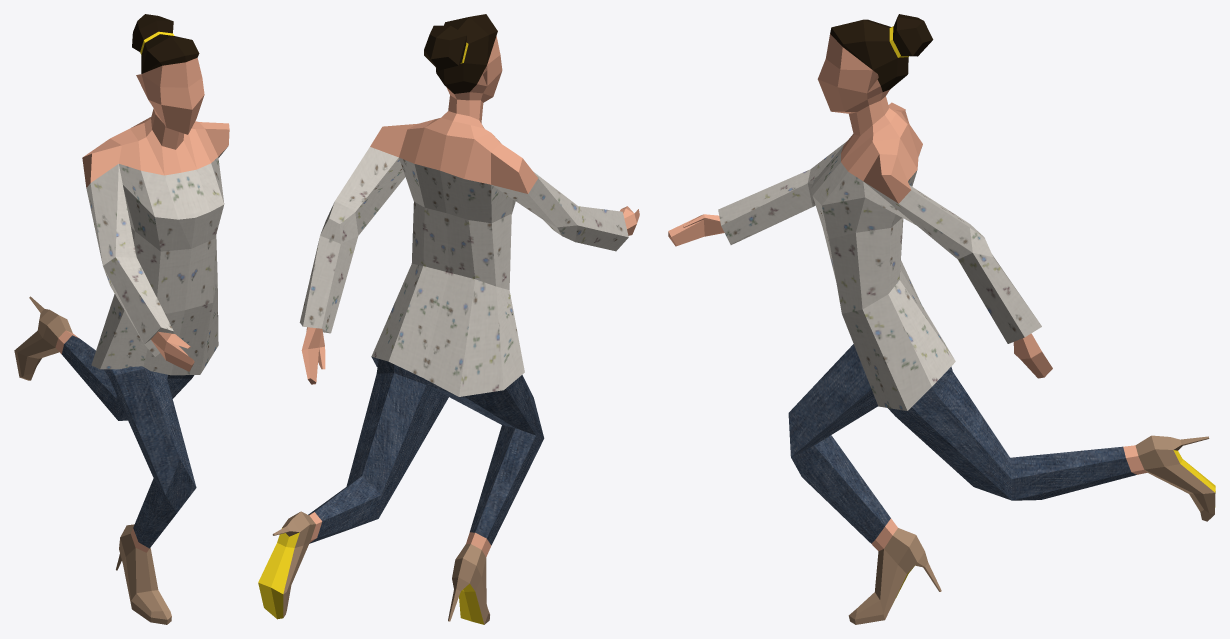
Rendered from SpringWomanA.005.glb.
3 views of the same model, side by side, from view 1: azimuth 30°, elevation 25°; view 2: azimuth 150°, elevation 25°; view 3: azimuth 270°, elevation 25° (orthographic). The views are drawn at different scales.
Parts seen in each view (by area): view 1: SpringWomanA.006; view 2: SpringWomanA.006; view 3: SpringWomanA.006.
Boxes of the visible parts, bbox=[...] form: SpringWomanA.006: bbox=[14, 14, 229, 624]; SpringWomanA.006: bbox=[258, 14, 639, 624]; SpringWomanA.006: bbox=[668, 14, 1215, 624].
Bounding box in the file's own units: 0.4918 × 1.54 × 1.25.
1 material, 1 textured.
